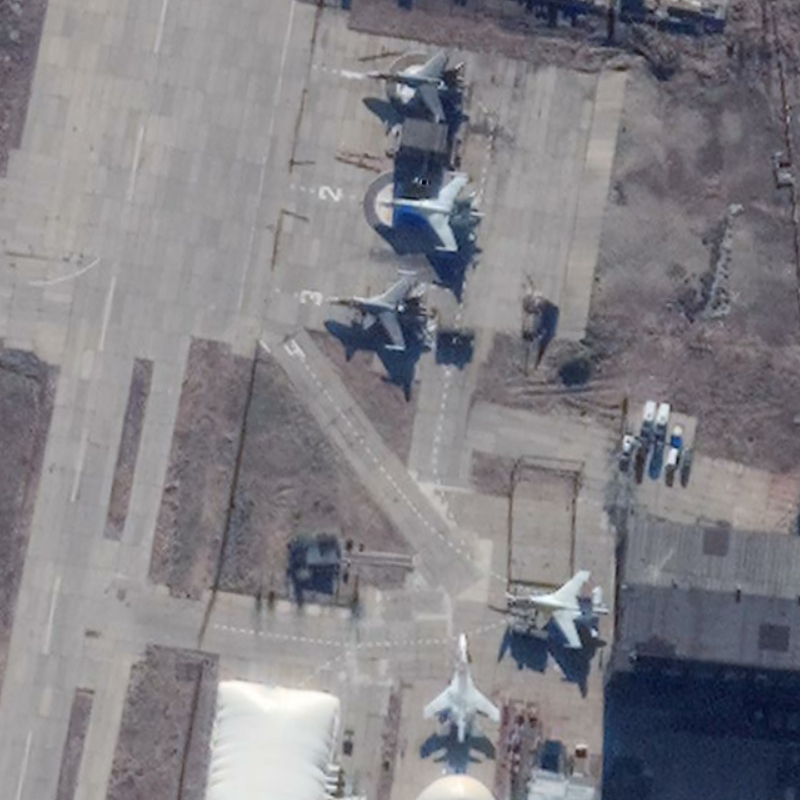A1: (377, 168, 487, 255), (420, 630, 503, 745), (324, 268, 435, 352), (500, 567, 611, 650), (364, 49, 466, 125)
